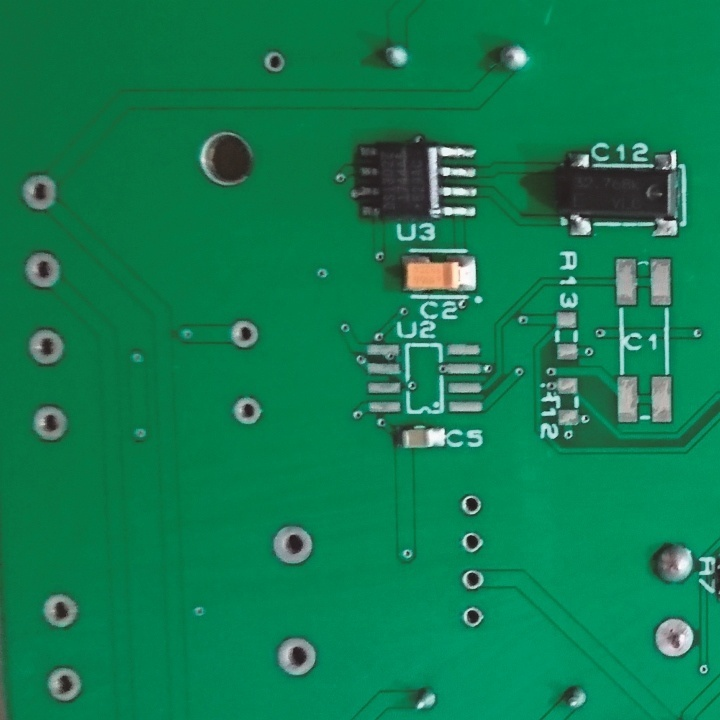F: (274, 632, 321, 680), (270, 520, 316, 568), (653, 614, 699, 661), (19, 246, 66, 291), (26, 400, 72, 445), (24, 326, 69, 369), (19, 172, 64, 214), (40, 589, 81, 633), (42, 666, 86, 706), (231, 393, 265, 429), (229, 317, 262, 351), (459, 602, 488, 631), (263, 47, 289, 76), (461, 567, 487, 595), (461, 492, 486, 520), (460, 532, 485, 554)
